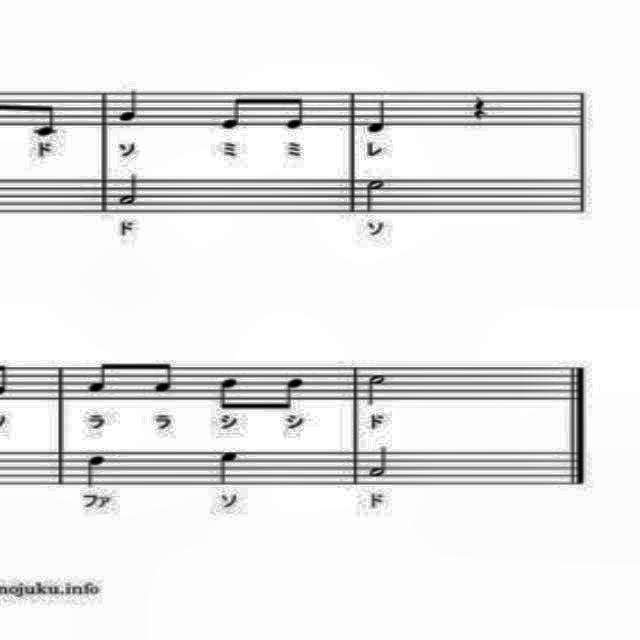Eighth-note: (83, 354, 117, 398), (220, 88, 252, 134), (277, 372, 309, 416), (282, 94, 314, 136), (149, 352, 179, 396), (32, 100, 64, 140), (216, 373, 240, 415)
Half-note: (114, 170, 146, 210), (362, 372, 390, 408), (368, 440, 392, 480), (364, 173, 386, 215)
Quarter-note: (79, 449, 111, 489), (112, 88, 144, 126), (214, 443, 242, 485), (363, 98, 391, 136)
Quarter-rest: (468, 90, 492, 122)
